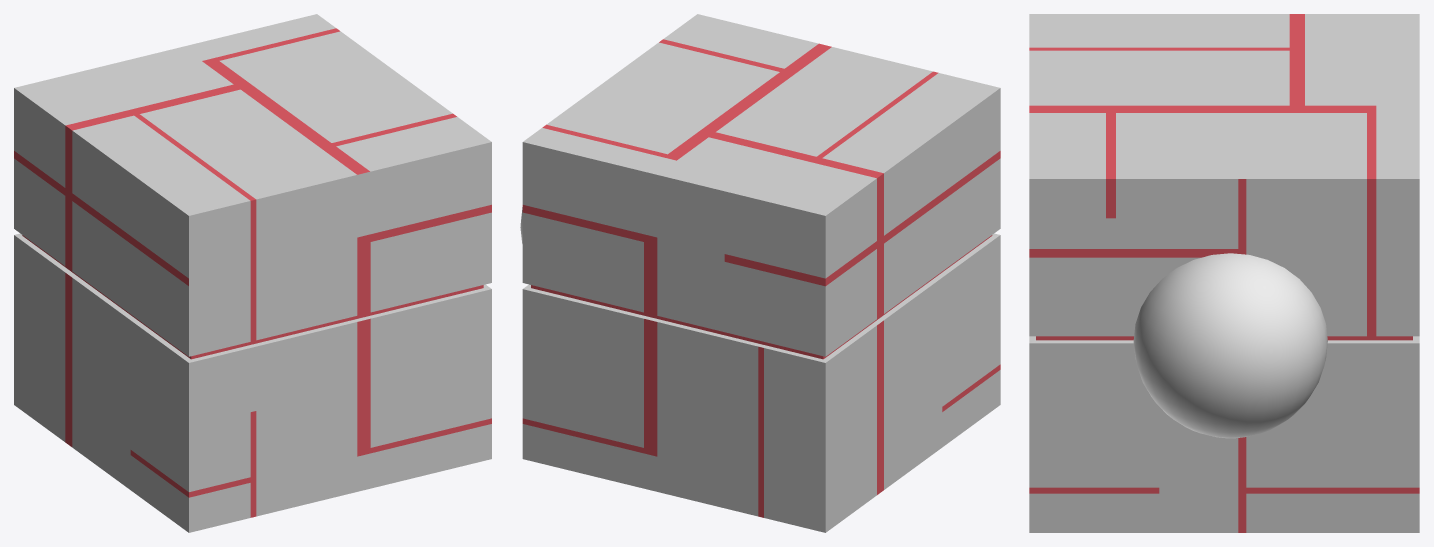
The model's file is stone.fbx.
The picture shows the model from 3 angles, left to right: view 1: azimuth 30°, elevation 25°; view 2: azimuth 150°, elevation 25°; view 3: azimuth 270°, elevation 25°; orthographic projection. The views are drawn at different scales.
Visible parts, largest first — view 1: Cube; view 2: Cube; view 3: Cube, Sphere.
Part boxes in pixels (<box>): Cube: <box>14,14,491,532</box>; Cube: <box>522,14,1000,532</box>; Cube: <box>1029,14,1419,532</box>; Sphere: <box>1133,253,1327,438</box>.
Size of the model in its own units: 250 by 200 by 200.
